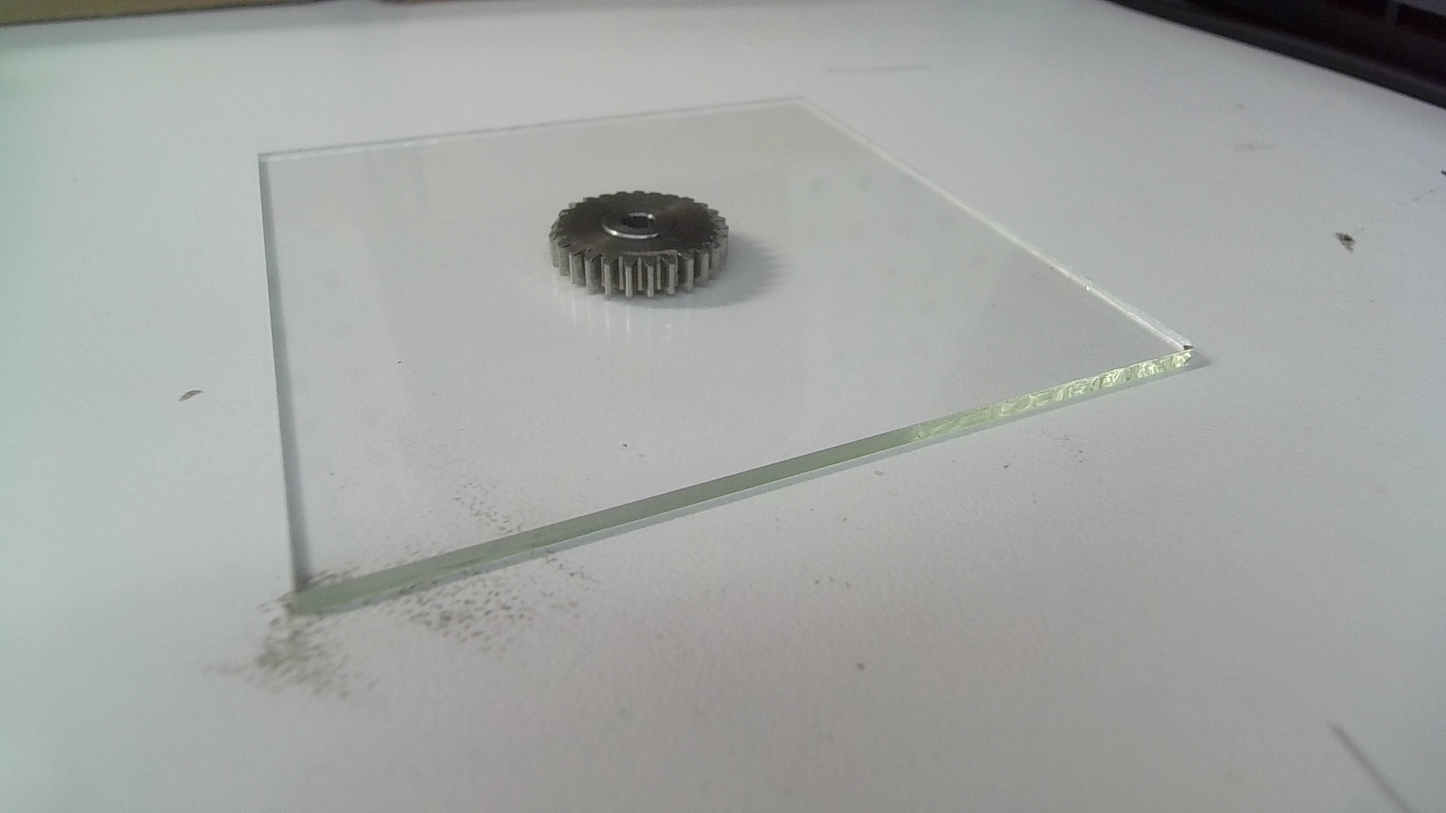gear: (545, 189, 735, 303)
